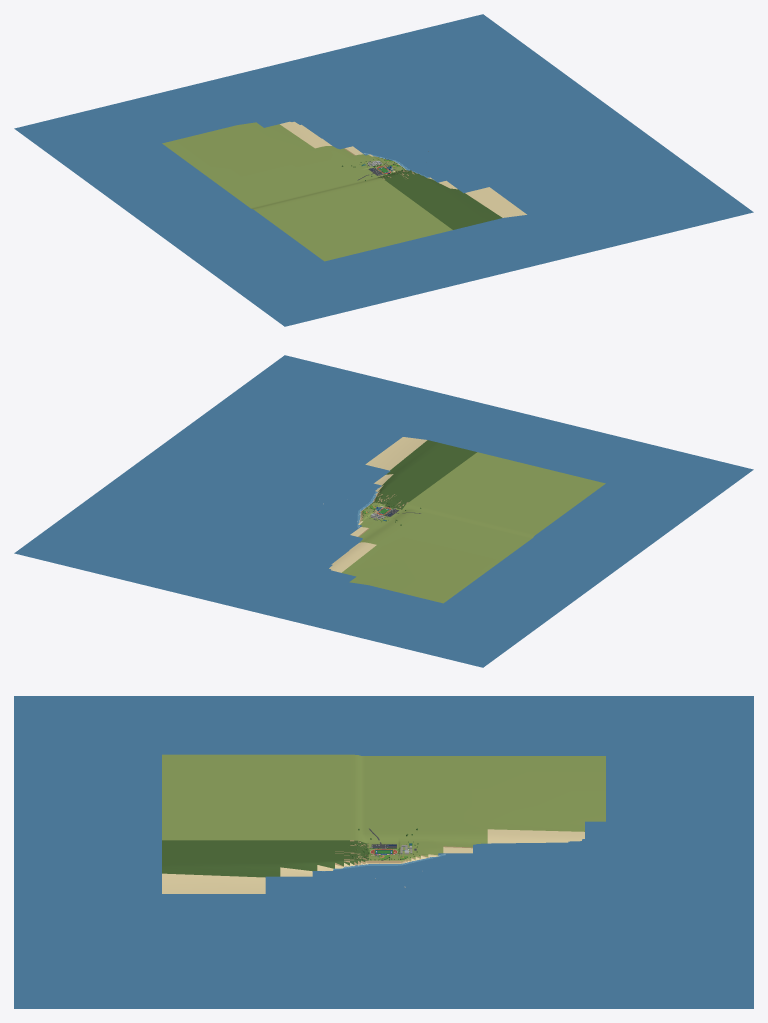
Rendered from dolphinhills.glb.
The picture shows the model from 3 angles, top to bottom: view 1: azimuth 30°, elevation 25°; view 2: azimuth 150°, elevation 25°; view 3: azimuth 270°, elevation 25°; orthographic projection. The views are drawn at different scales.
Parts seen in each view (by area): view 1: dolphinhills; view 2: dolphinhills; view 3: dolphinhills.
Part boxes in pixels (x1,y1,x2,y2): dolphinhills: (14, 14, 753, 326); dolphinhills: (14, 355, 753, 667); dolphinhills: (14, 696, 753, 1008).
Bounding box in the file's own units: 5000 × 45.27 × 5000.
